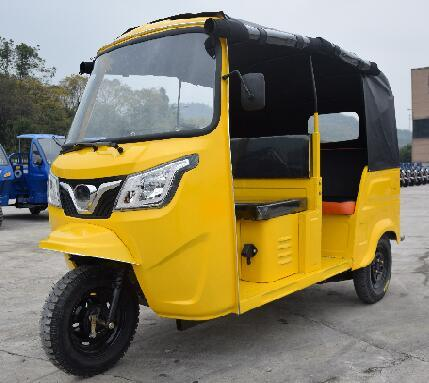threewheel: (37, 10, 404, 378)
